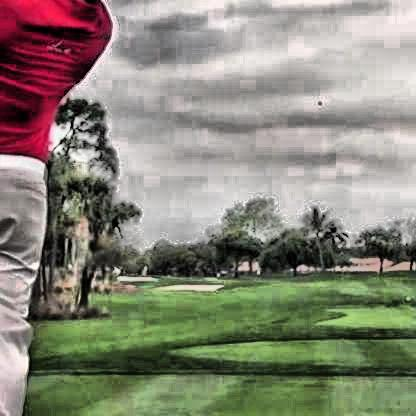golfball: (314, 98, 319, 103)
